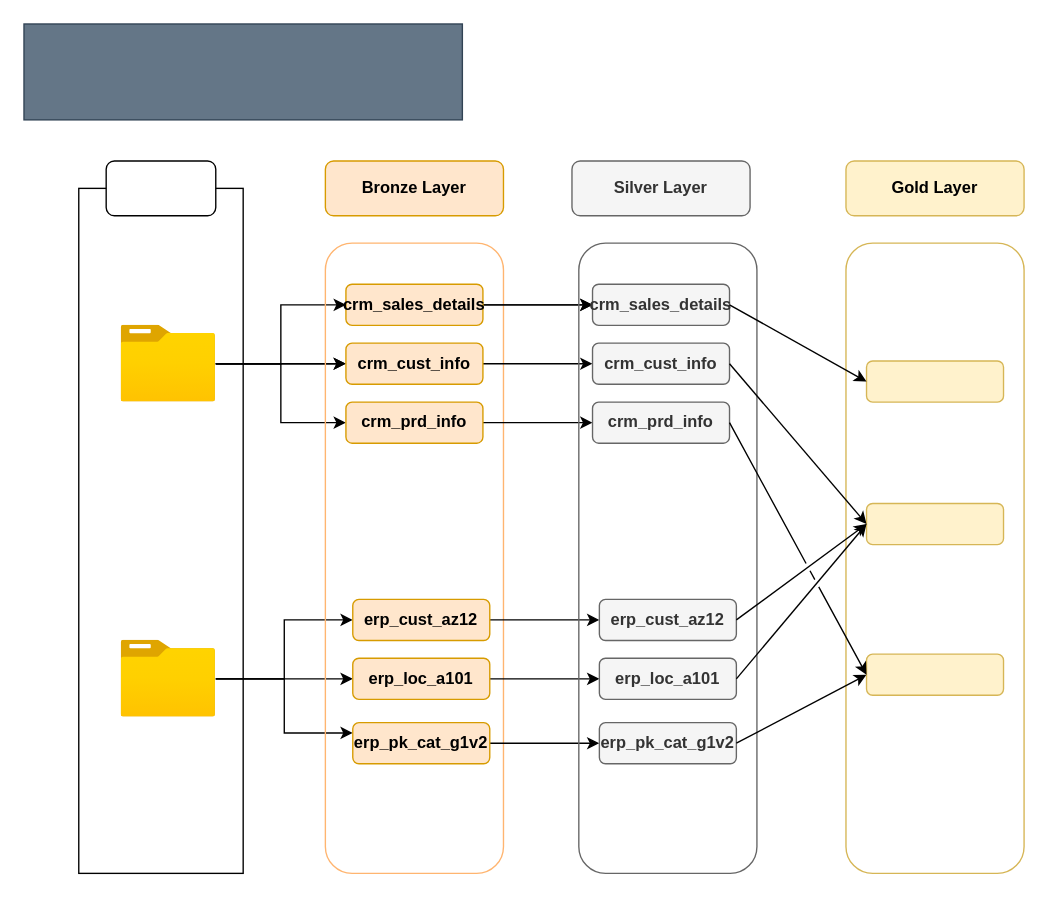
Some shapes in this 1048 by 897 pixel diagram are drawn without their labels. Here are the shapes that lost their labels. From the top down, the centre of each, then its label:
At (242,71): "Data Flow Diagram".
At (160,188): "source".
At (168,363): "CRM".
At (934,381): "fact_sales".
At (934,523): "dim_customers".
At (168,678): "ERP".
At (934,674): "dim_products".
